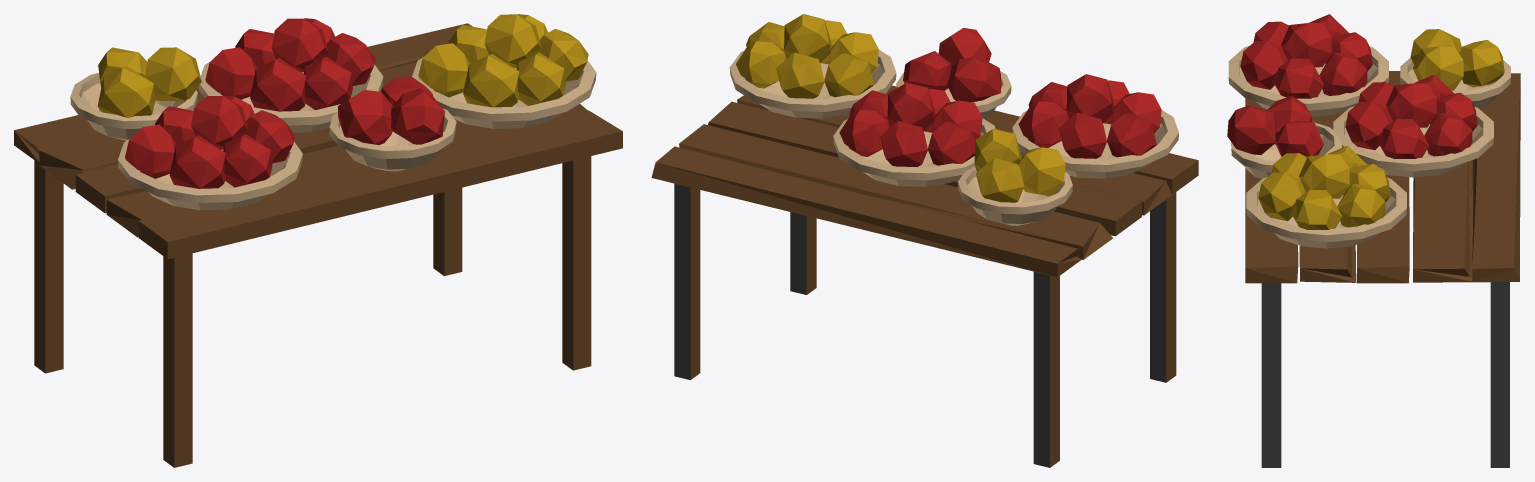
File: SM_table_fruits.fbx
The picture shows the model from 3 angles, left to right: view 1: azimuth 30°, elevation 25°; view 2: azimuth 150°, elevation 25°; view 3: azimuth 270°, elevation 25°; orthographic projection. The views are drawn at different scales.
Parts seen in each view (by area): view 1: Box110; view 2: Box110; view 3: Box110.
Part boxes in pixels (bbox=[...]): Box110: bbox=[14, 14, 622, 467]; Box110: bbox=[651, 14, 1198, 467]; Box110: bbox=[1227, 14, 1520, 467].
Bounding box in the file's own units: 72.3 × 49.8 × 44.61.
